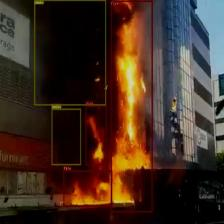fire: (110, 0, 152, 212), (63, 170, 112, 207), (86, 105, 106, 165)
smoke: (34, 0, 106, 105), (51, 108, 81, 165)
